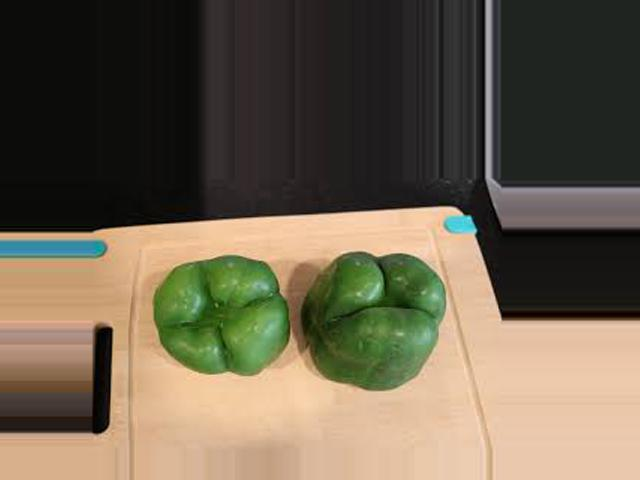bell_pepper: (154, 252, 293, 391)
